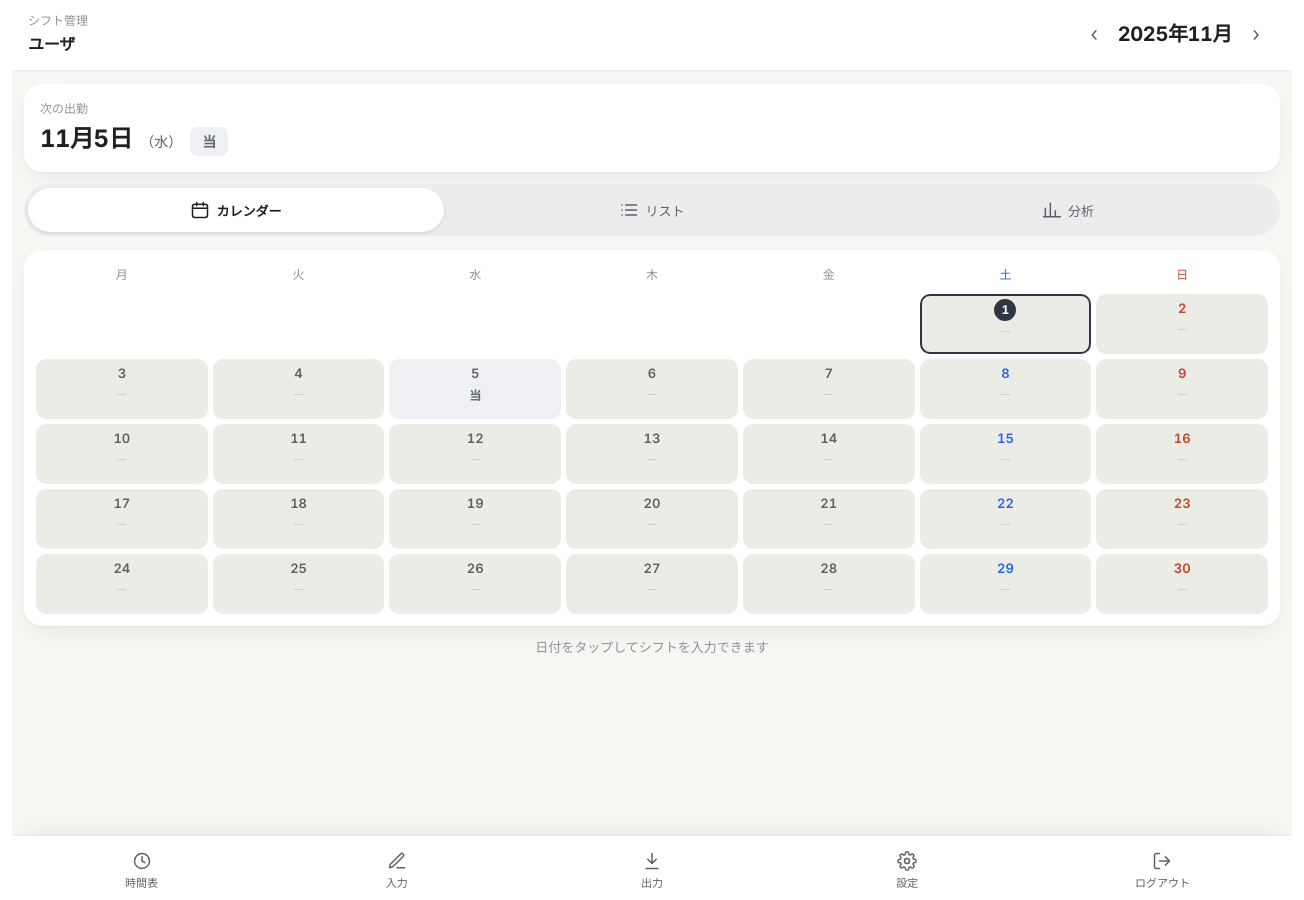
Scenario: 選択肢から外した種別が保存されている日 › リストでも元のキーが残る
Click the button "リスト" at (652, 210), box [444,188,860,232]
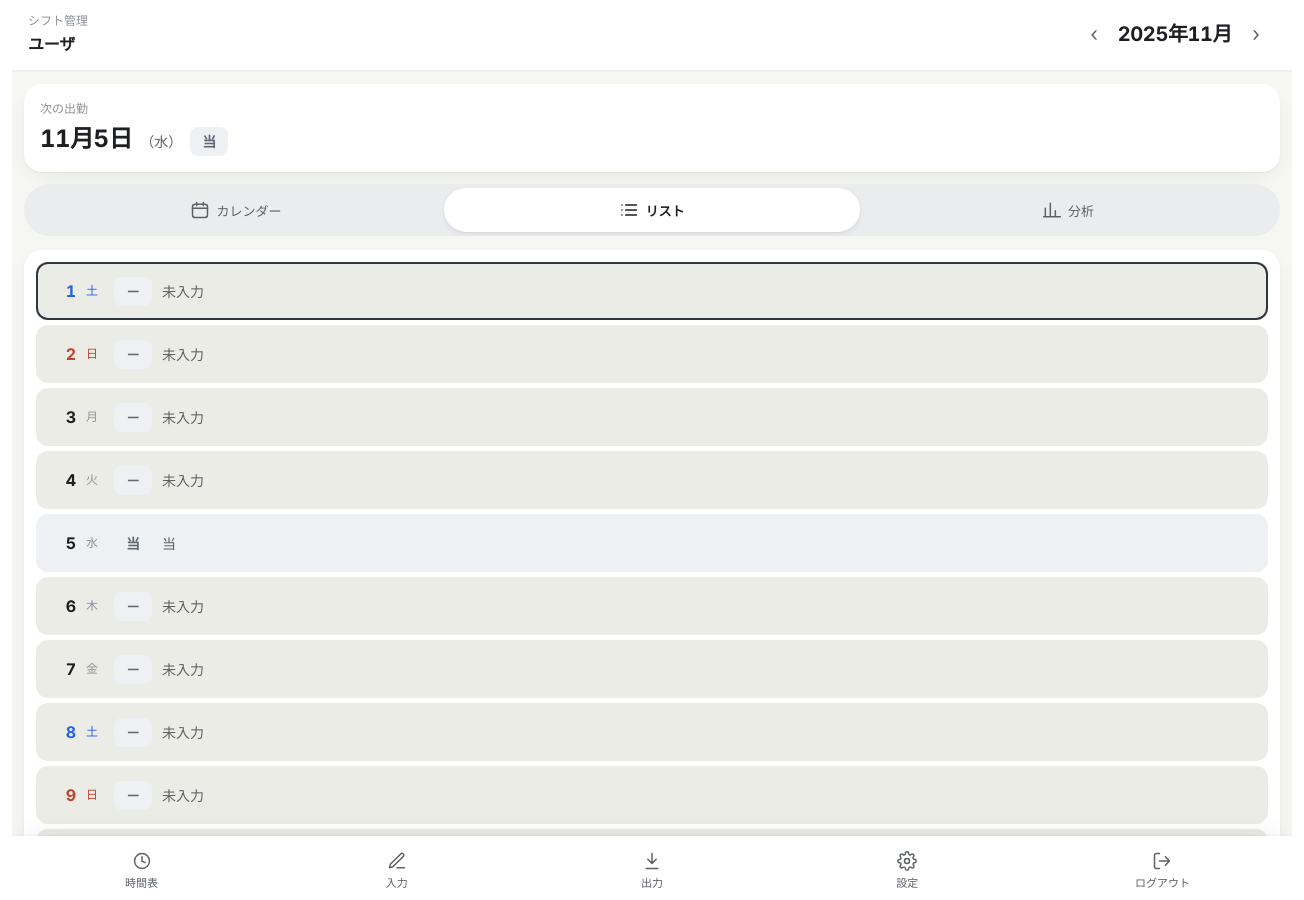
Expected: the 2nd text with class "shift-badge" reads "当", [126,534,140,552]
